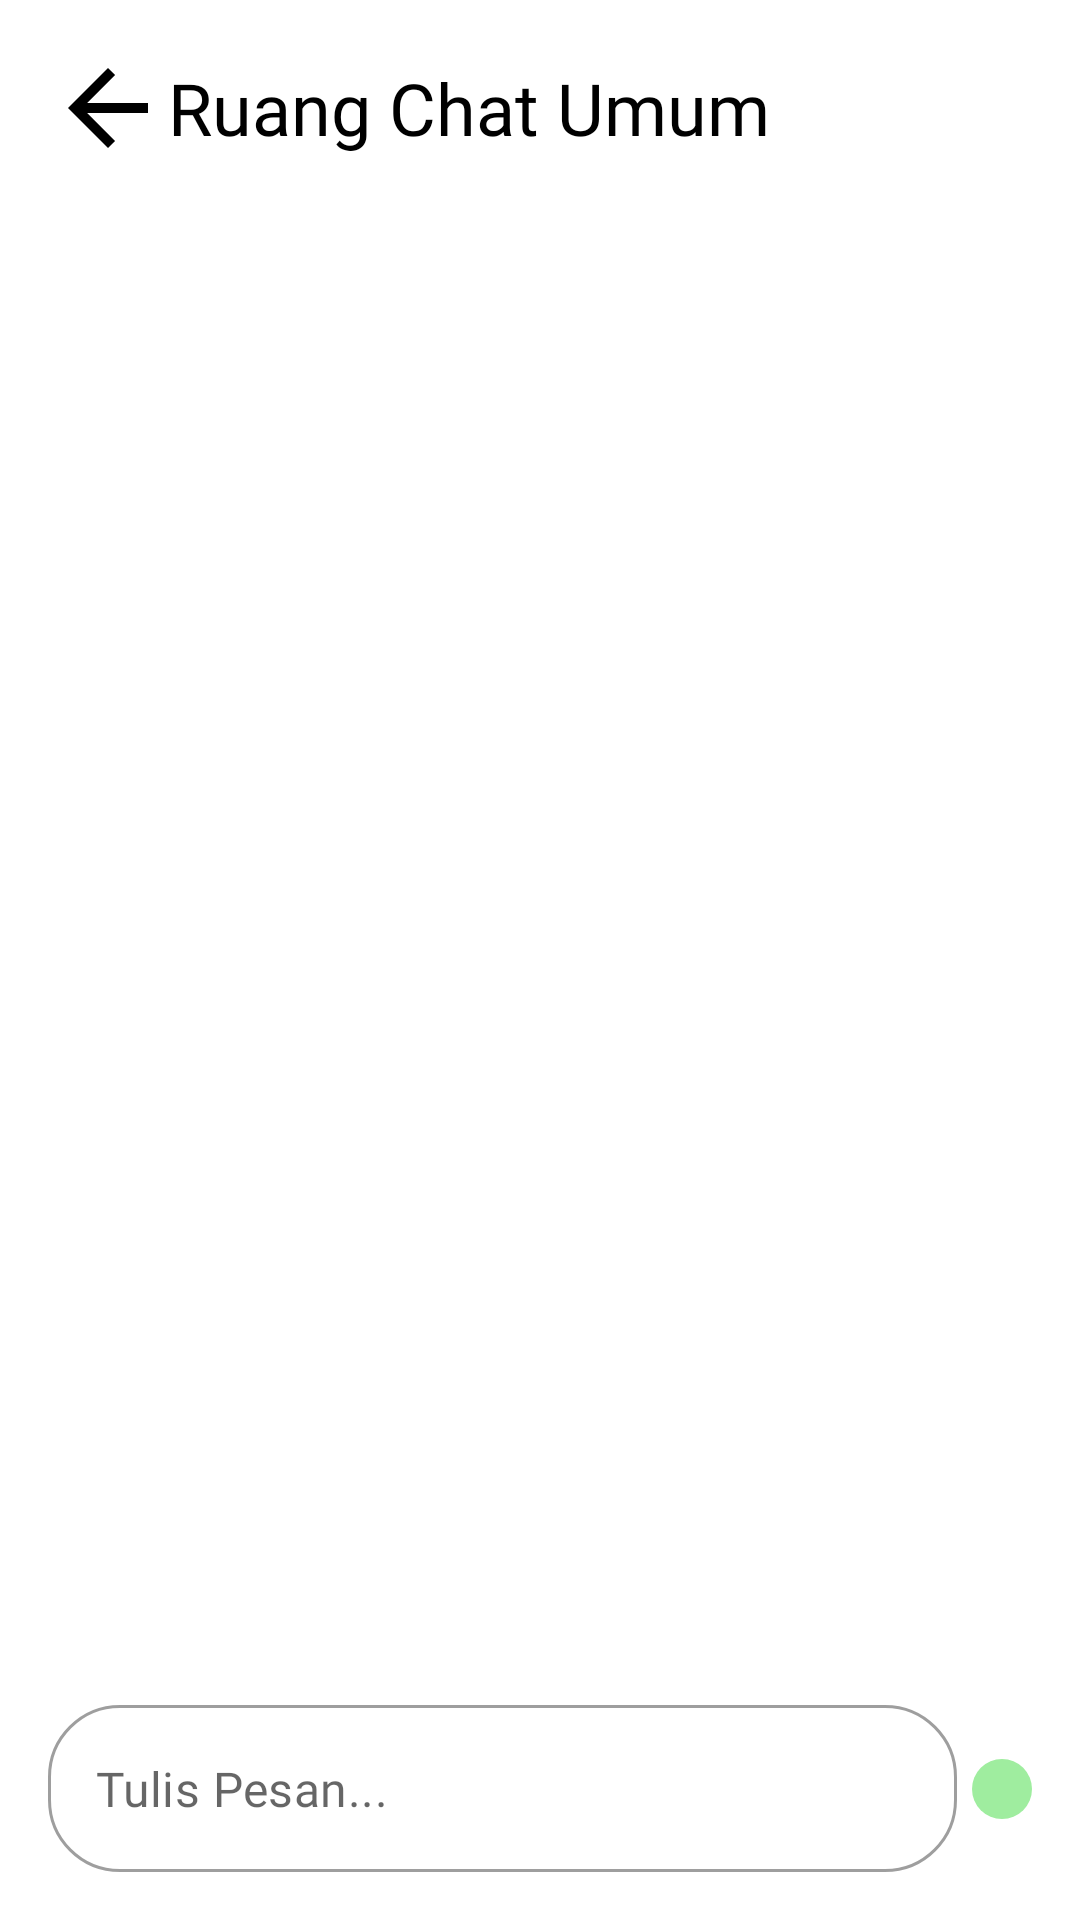

Point at icon controls on the screen. Image size 1080px×1920px, points as point (x, y).
arrow back: point (108, 108)
